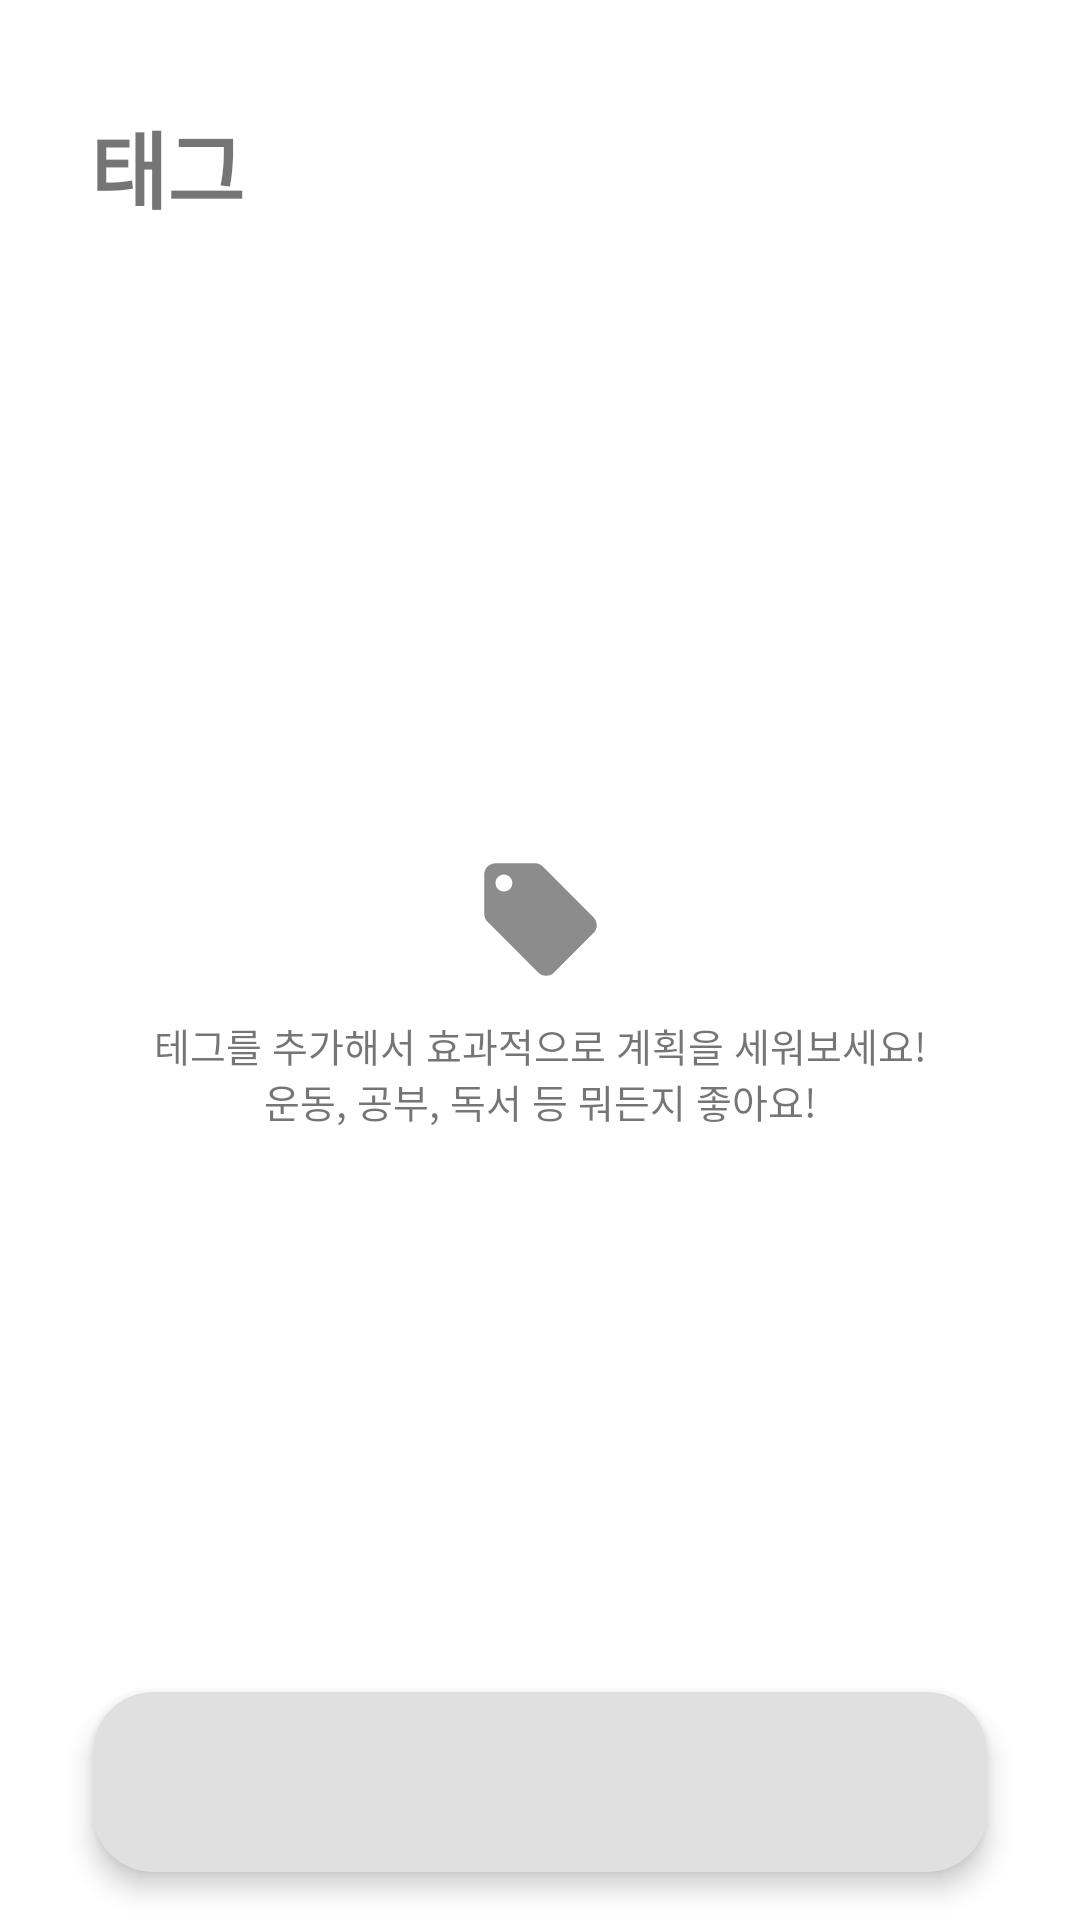

Screen size 1080 × 1920. Icon name, then its center in pixels as (x,y):
tag label: (540,919)
